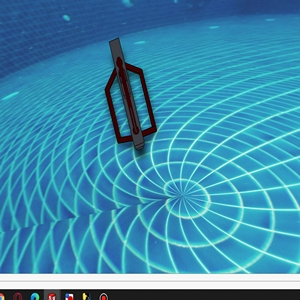submarine: (101, 37, 156, 154)
